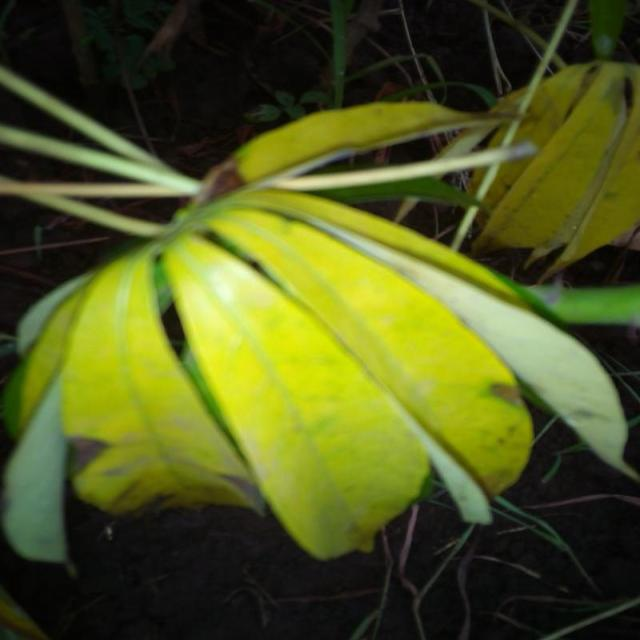cassava leaf: (1, 57, 640, 574), (466, 57, 640, 281)
